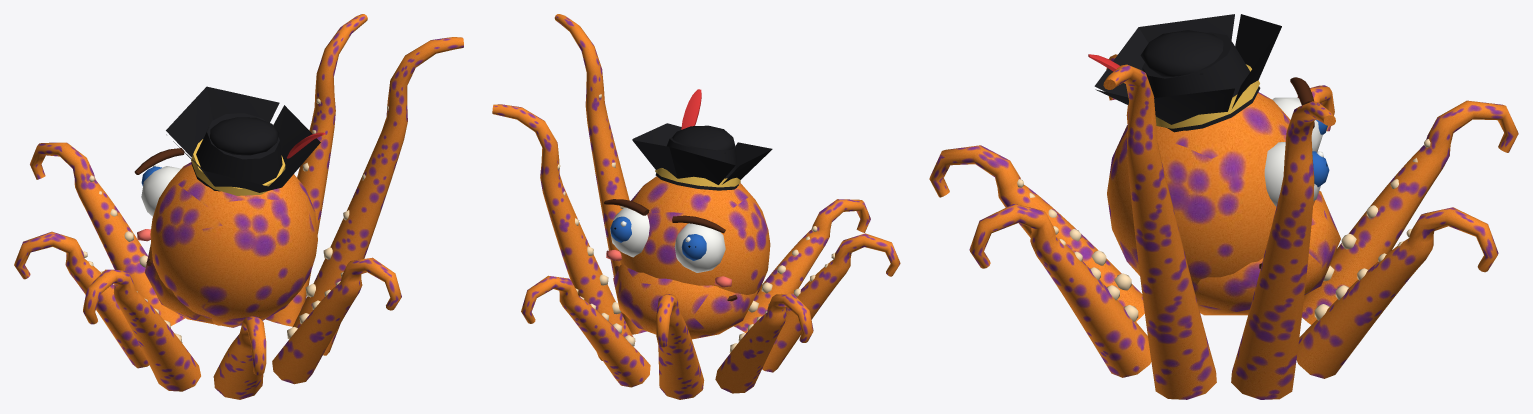
Rendered from larry.glb.
The picture shows the model from 3 angles, left to right: view 1: azimuth 30°, elevation 25°; view 2: azimuth 150°, elevation 25°; view 3: azimuth 270°, elevation 25°; orthographic projection. The views are drawn at different scales.
Parts seen in each view (by area): view 1: Larry, Tentacle7, Tentacle2, Tentacle6, Tentacle4, Tentacle0, Tentacle3, Tentacle5; view 2: Larry, Tentacle0, Tentacle7, Tentacle1, Tentacle3, Tentacle5, Tentacle4, Tentacle2; view 3: Larry, Tentacle7, Tentacle0, Tentacle1, Tentacle2, Tentacle6, Tentacle5.
Boxes of the visible parts, x1=… form: Larry: x1=134, y1=86, x2=325, y2=327; Tentacle7: x1=292, y1=37, x2=463, y2=355; Tentacle2: x1=30, y1=142, x2=184, y2=325; Tentacle6: x1=272, y1=257, x2=401, y2=384; Tentacle4: x1=83, y1=269, x2=200, y2=391; Tentacle0: x1=266, y1=14, x2=367, y2=326; Tentacle3: x1=14, y1=231, x2=149, y2=368; Tentacle5: x1=213, y1=316, x2=266, y2=399; Larry: x1=604, y1=89, x2=772, y2=339; Tentacle0: x1=492, y1=104, x2=635, y2=360; Tentacle7: x1=554, y1=14, x2=646, y2=334; Tentacle1: x1=521, y1=275, x2=650, y2=387; Tentacle3: x1=715, y1=293, x2=813, y2=393; Tentacle5: x1=734, y1=199, x2=870, y2=332; Tentacle4: x1=762, y1=233, x2=900, y2=372; Tentacle2: x1=656, y1=294, x2=704, y2=399; Larry: x1=1088, y1=14, x2=1340, y2=315; Tentacle7: x1=1103, y1=64, x2=1216, y2=399; Tentacle0: x1=1231, y1=101, x2=1335, y2=399; Tentacle1: x1=1296, y1=207, x2=1498, y2=378; Tentacle2: x1=1302, y1=100, x2=1518, y2=324; Tentacle6: x1=969, y1=204, x2=1151, y2=377; Tentacle5: x1=929, y1=145, x2=1144, y2=321.
Size of the model in its own units: 2.26 by 1.76 by 2.36.
11 materials, 1 textured.
